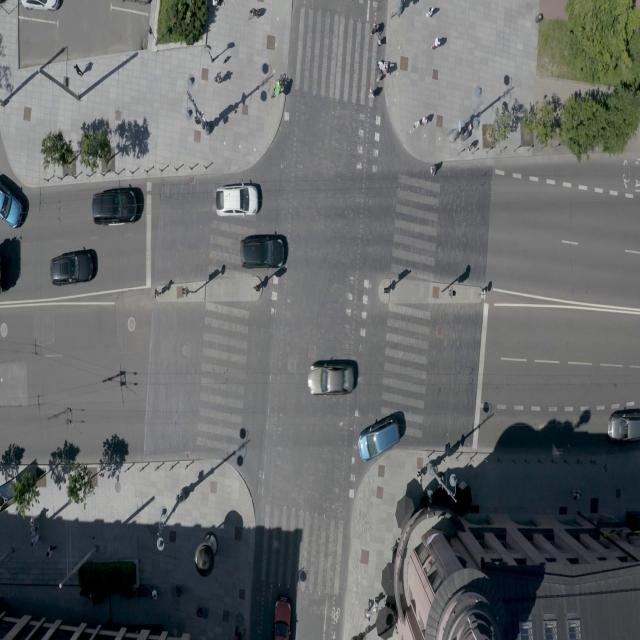Car: (358, 413, 403, 458), (92, 187, 144, 225), (51, 248, 98, 286), (240, 233, 287, 269), (215, 182, 261, 216), (0, 173, 28, 228), (308, 360, 352, 394), (0, 236, 21, 293), (608, 407, 640, 441), (273, 596, 292, 640), (22, 0, 62, 11)
